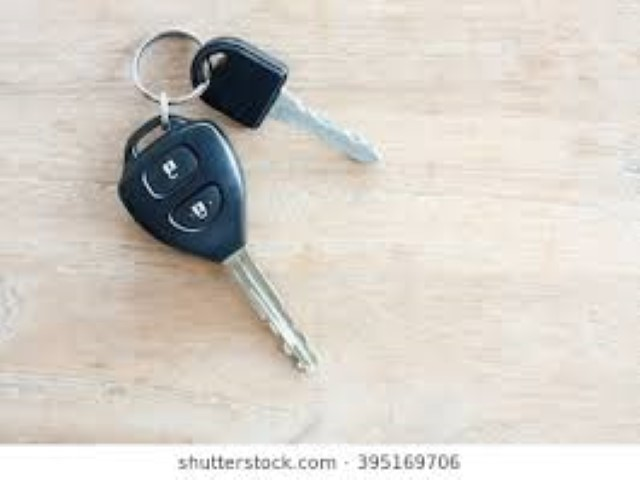key: (116, 113, 318, 318)
